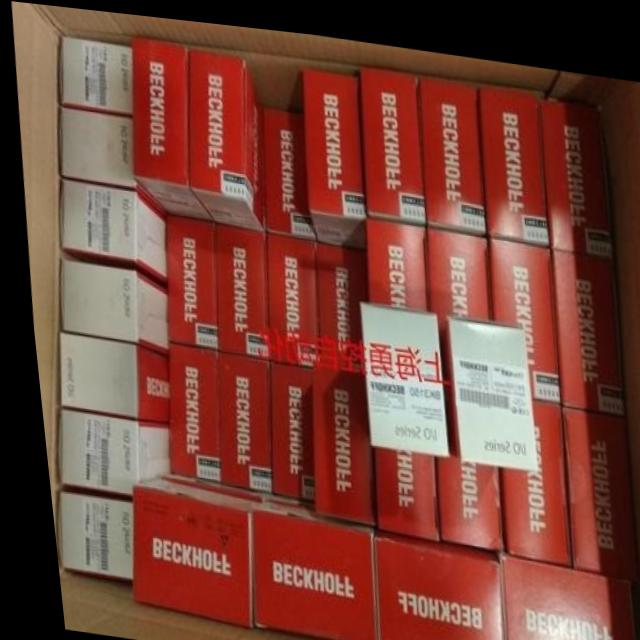box: (121, 475, 247, 625), (242, 495, 362, 640), (362, 522, 491, 640), (129, 29, 207, 217), (437, 306, 529, 459), (185, 45, 259, 225), (354, 294, 439, 448), (488, 544, 623, 640), (546, 236, 619, 406), (556, 395, 625, 566), (491, 386, 560, 552), (538, 87, 609, 244), (485, 225, 552, 391), (477, 72, 545, 233), (427, 373, 492, 539), (56, 179, 161, 281), (302, 61, 361, 239), (417, 63, 482, 223), (53, 259, 161, 353), (358, 56, 421, 214), (423, 216, 486, 370), (47, 409, 161, 494), (304, 354, 363, 518), (52, 332, 161, 419), (159, 338, 211, 479), (211, 346, 262, 489), (210, 217, 263, 354), (260, 227, 312, 361), (310, 233, 363, 363), (44, 490, 121, 578), (161, 210, 211, 344), (261, 100, 310, 233), (262, 354, 306, 496), (55, 106, 129, 187), (56, 35, 130, 113), (360, 209, 422, 302), (364, 441, 427, 531)
